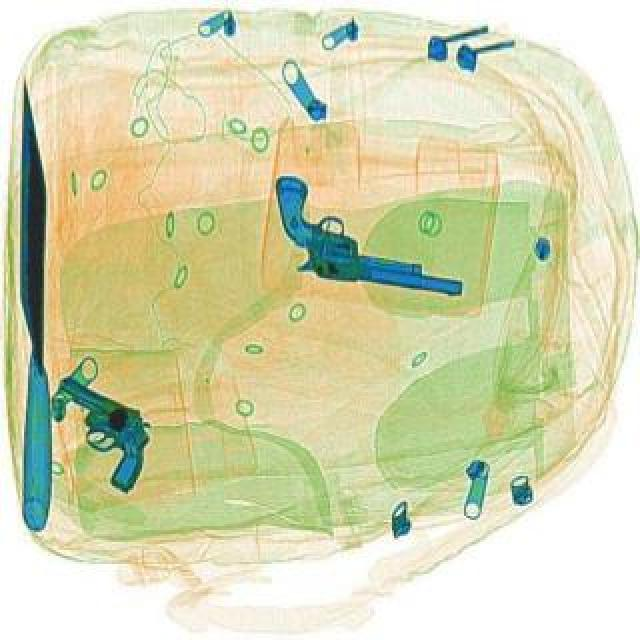gun: (260, 172, 476, 300), (22, 372, 166, 494)
knife: (18, 72, 48, 528)
